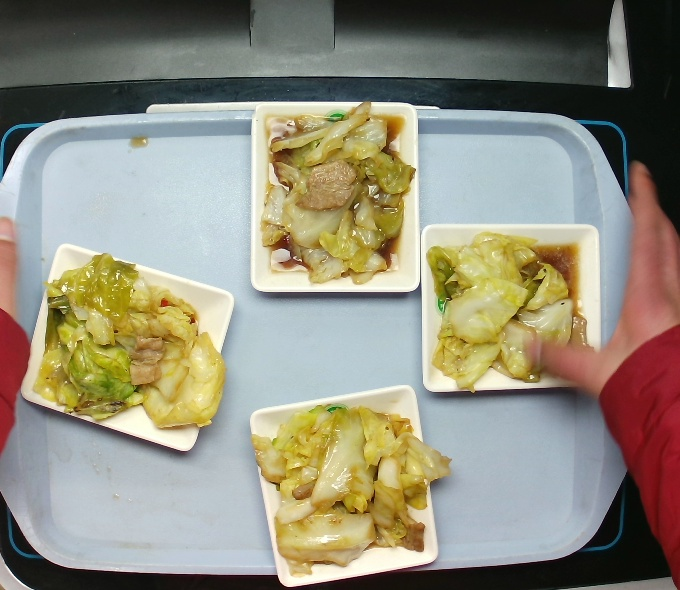wcq-JuanXinCaiChaoRou: (33, 247, 238, 442), (248, 398, 458, 579), (257, 98, 420, 284), (424, 227, 604, 392)
